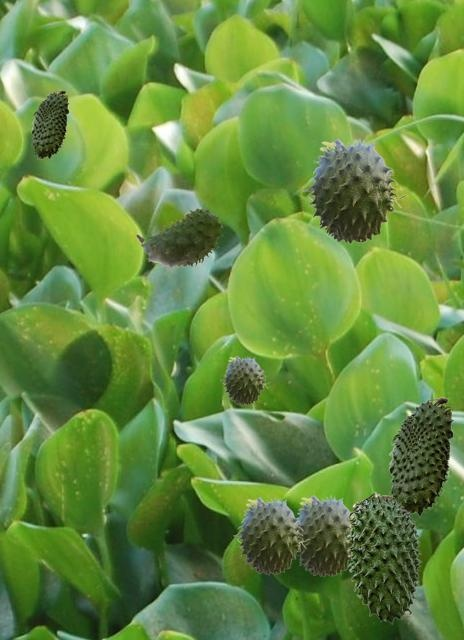guyabano: (302, 137, 406, 243), (346, 491, 421, 623), (388, 397, 453, 516), (233, 496, 309, 574), (136, 208, 222, 269), (296, 494, 350, 576), (31, 90, 68, 158), (220, 355, 269, 404)
